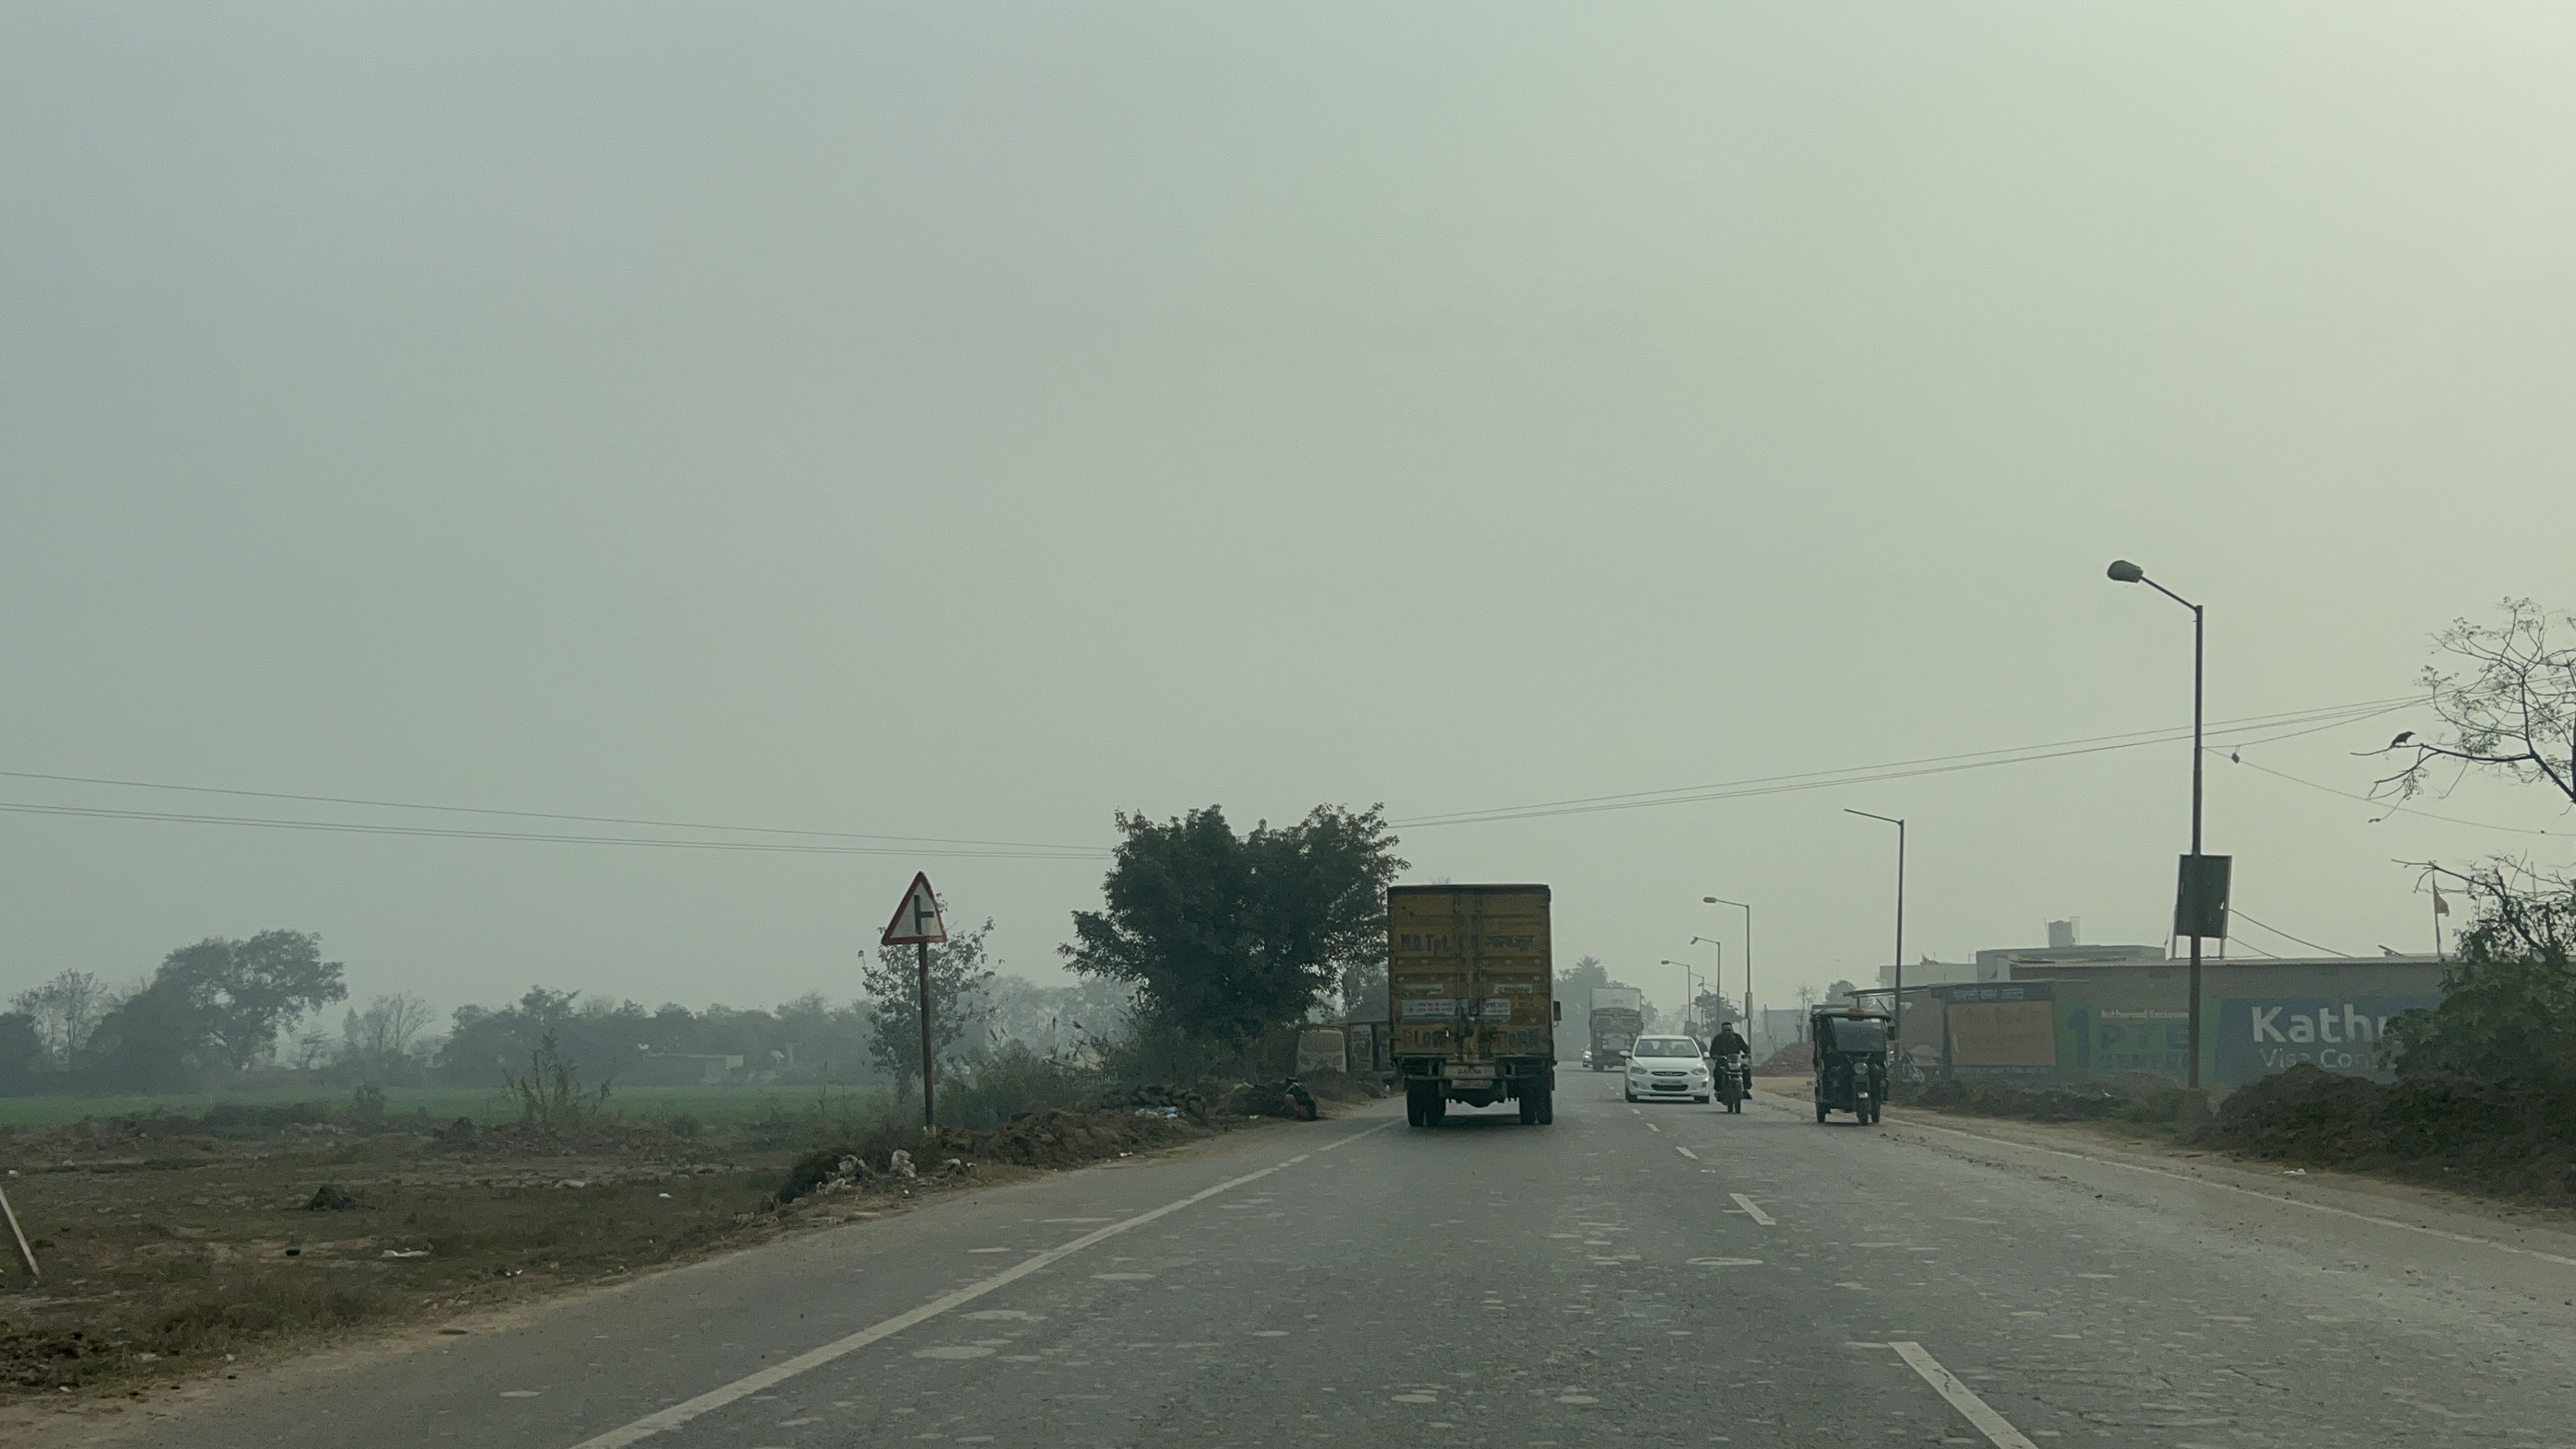Warning: (863, 855, 957, 959)
